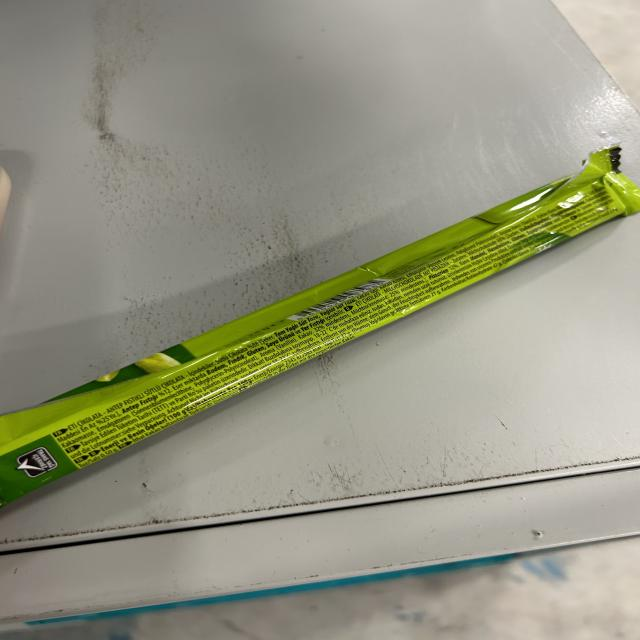object_name: (0, 154, 620, 524)
